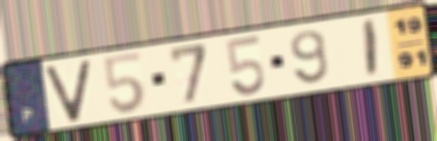5: (100, 49, 148, 117), (224, 33, 267, 97)
7: (167, 41, 211, 107)
9: (287, 28, 331, 85)
I: (363, 16, 380, 80)
V: (43, 56, 94, 124)
